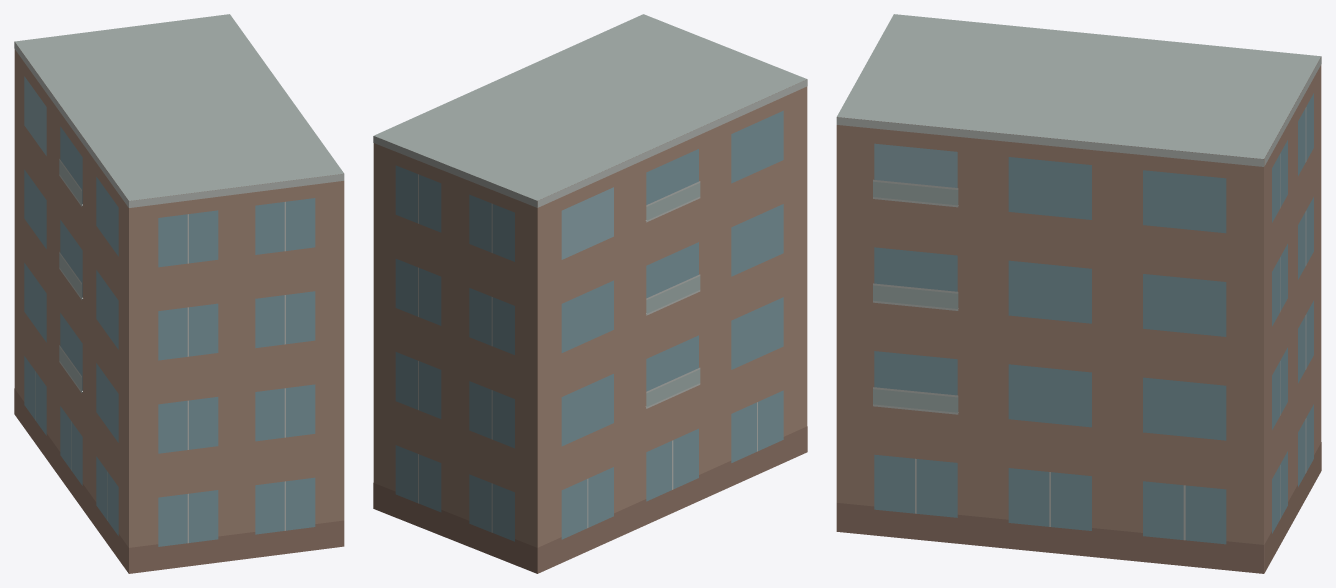
File: survey-upis-32801102.glb
The picture shows the model from 3 angles, left to right: view 1: azimuth 30°, elevation 25°; view 2: azimuth 150°, elevation 25°; view 3: azimuth 270°, elevation 25°; orthographic projection. The views are drawn at different scales.
Visible parts, largest first — view 1: survey-upis-32801102.tmp; view 2: survey-upis-32801102.tmp; view 3: survey-upis-32801102.tmp.
Boxes of the visible parts, left/top/right/bottom form: survey-upis-32801102.tmp: left=14, top=14, right=344, bottom=573; survey-upis-32801102.tmp: left=373, top=14, right=807, bottom=573; survey-upis-32801102.tmp: left=836, top=14, right=1321, bottom=573.
Bounding box in the file's own units: 9.61 × 12.8 × 13.57.
